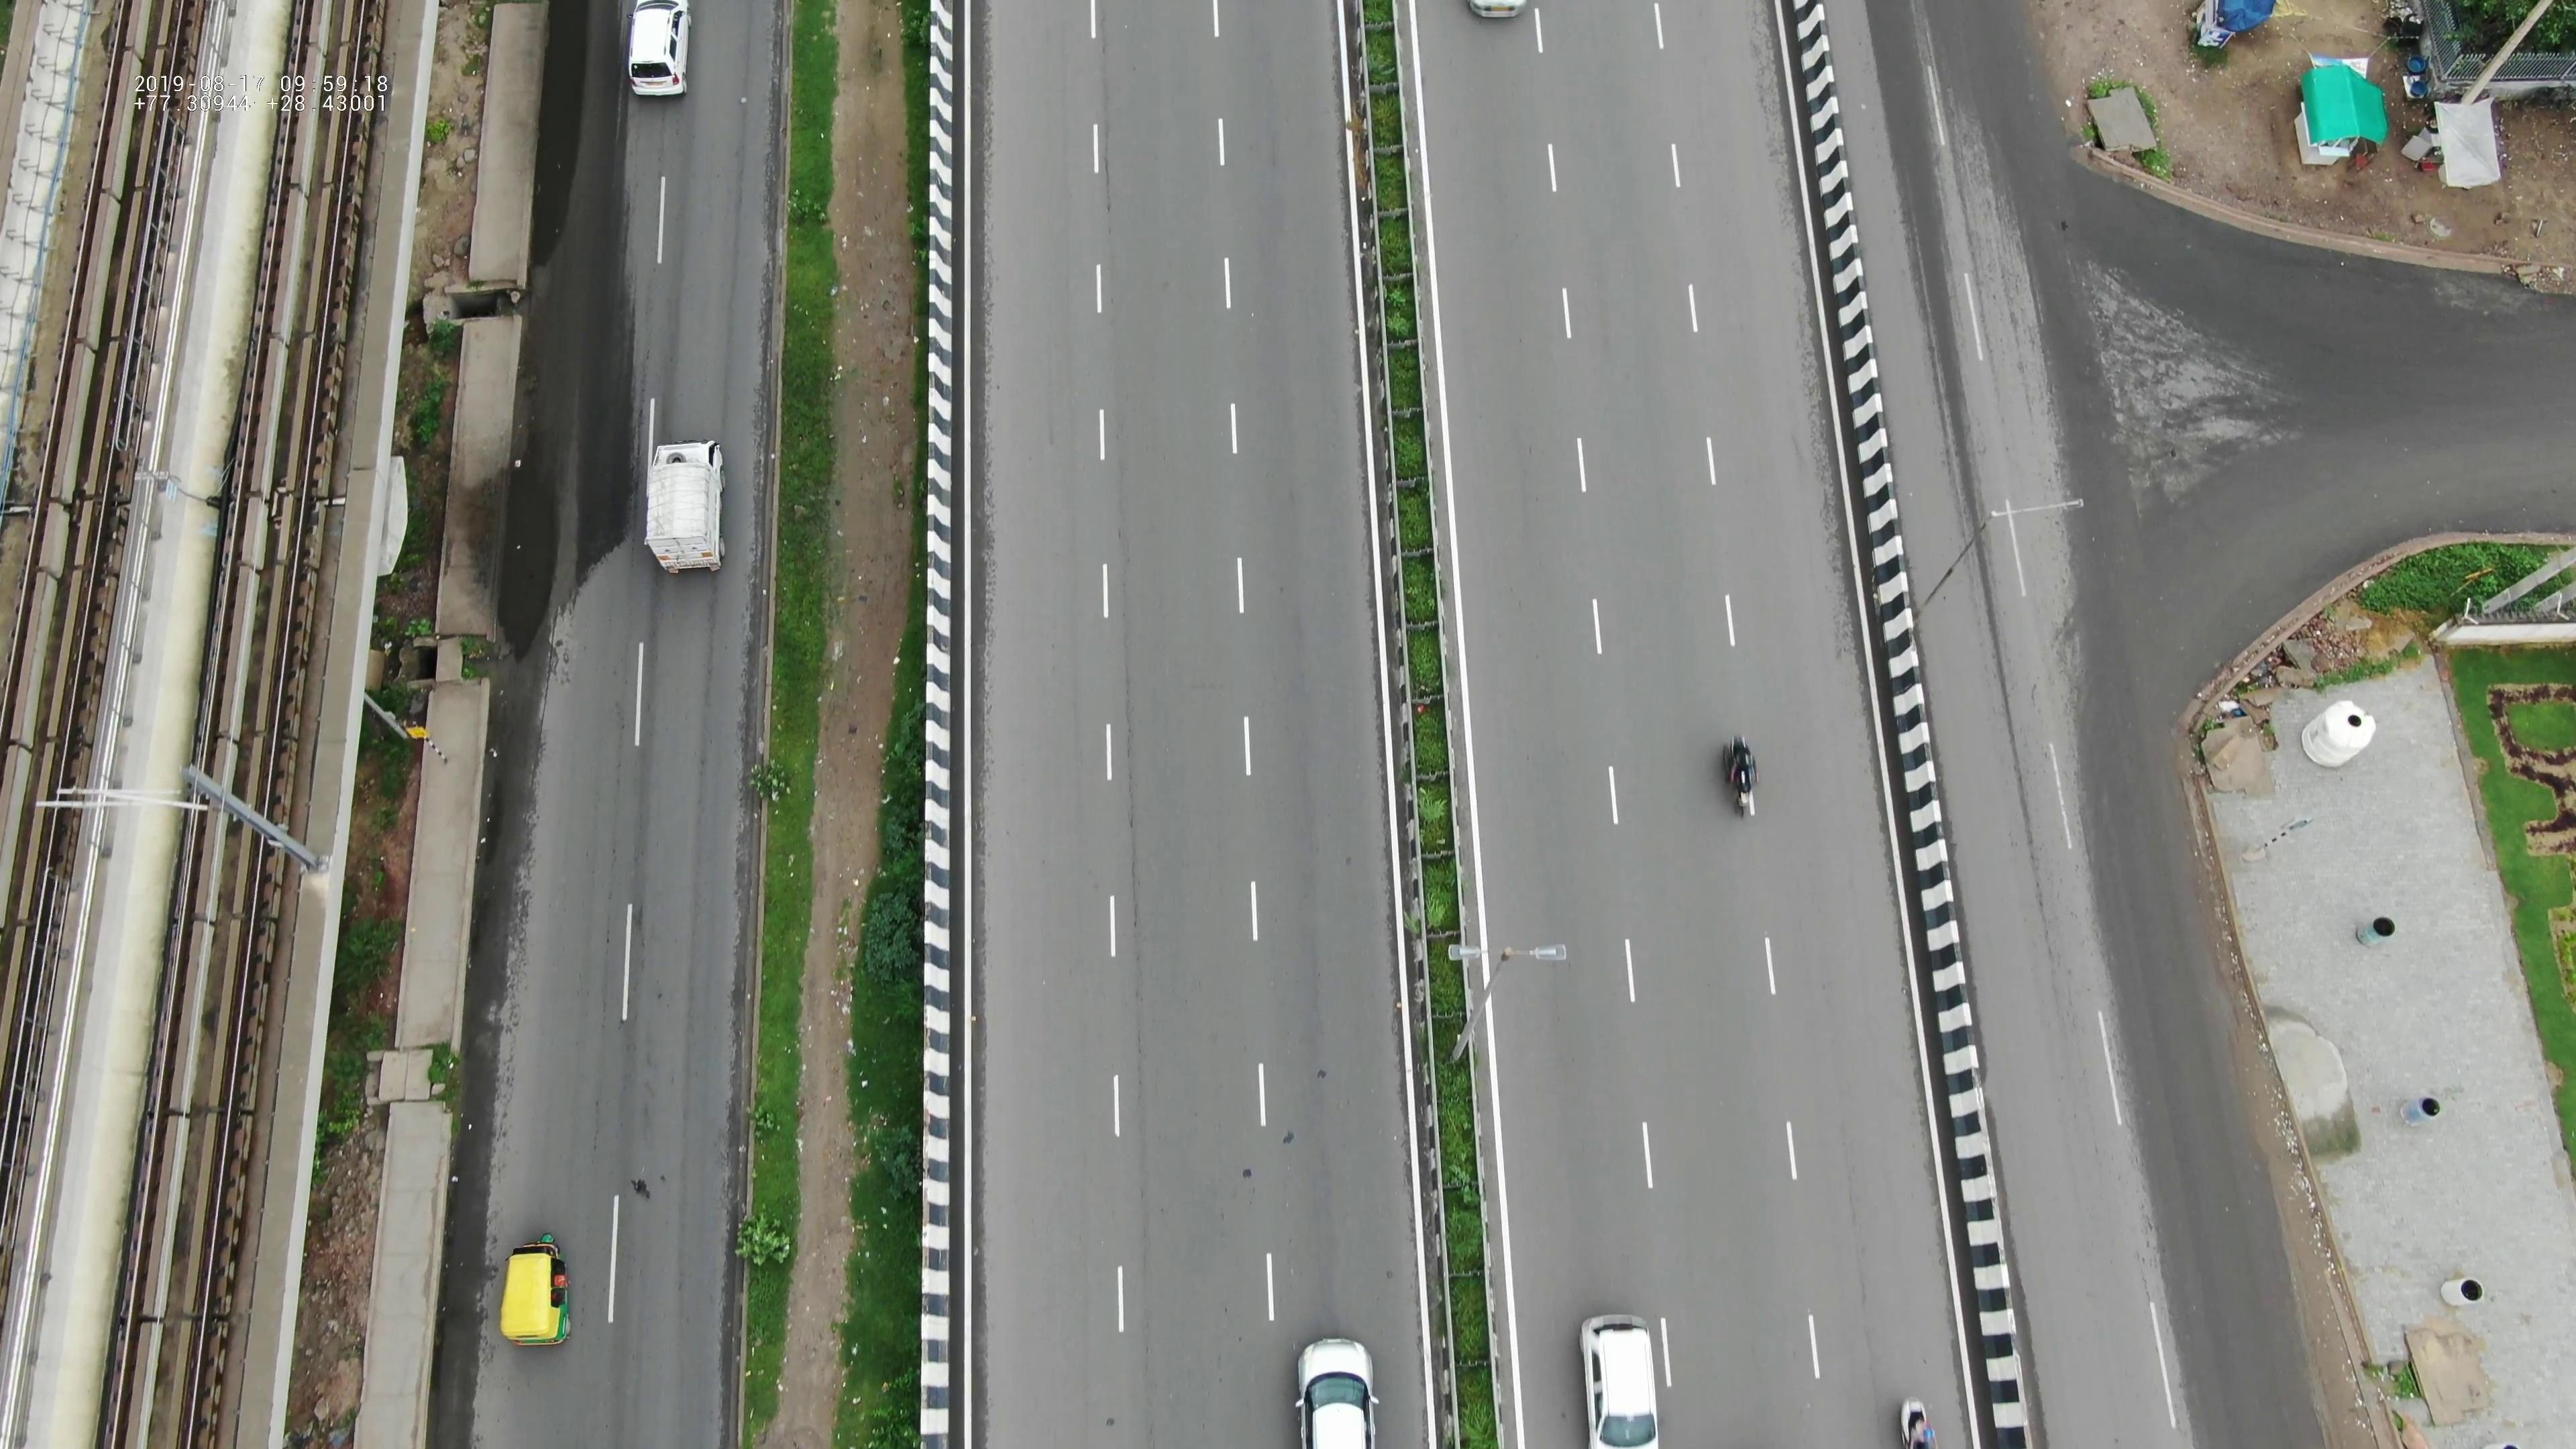Ravelling: (1085, 55, 1129, 272)
